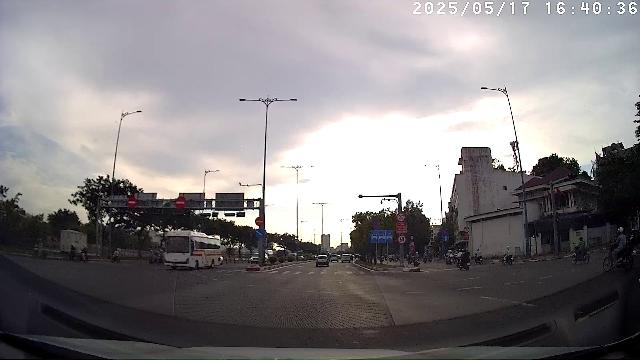102-cam-di-nguoc-chieu: (174, 196, 186, 210), (127, 195, 136, 209), (255, 216, 265, 226)
127-toc-do-toi-da-60: (397, 234, 407, 244)
302a-huong-phai-di-vong-chuong-ngai-vat-1: (255, 228, 265, 238)
